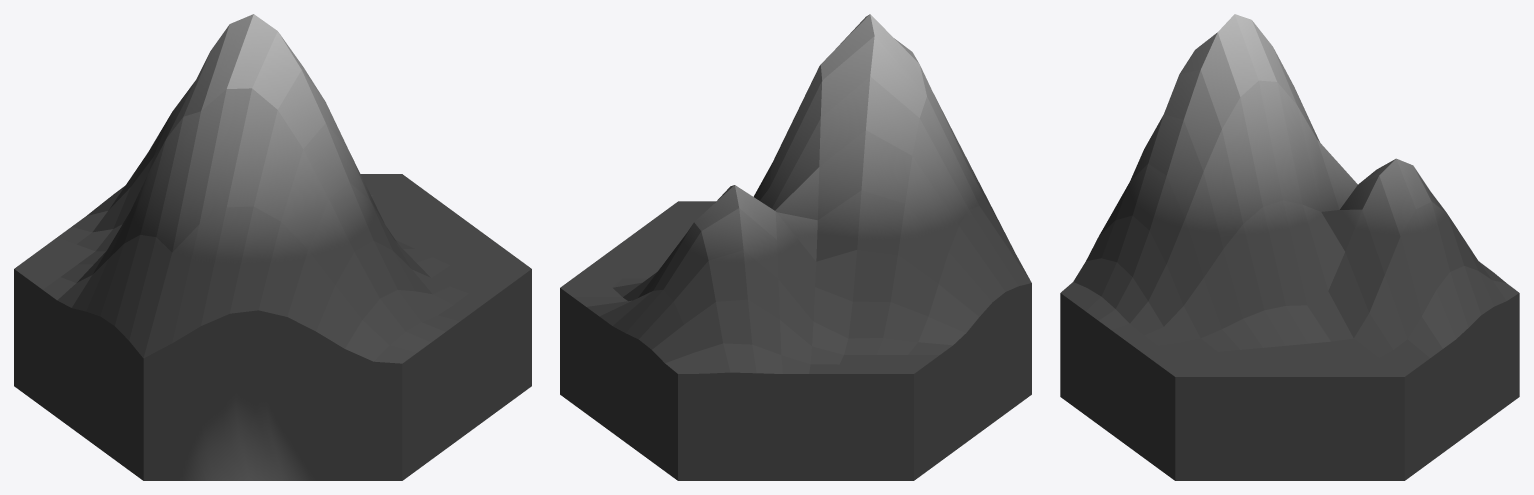
Rendered from HexCell_Mountain_1.glb.
3 renders of one model, left to right at view 1: azimuth 30°, elevation 25°; view 2: azimuth 150°, elevation 25°; view 3: azimuth 270°, elevation 25°, orthographic. The views are drawn at different scales.
Visible parts, largest first — view 1: HexCell_Mountain_1; view 2: HexCell_Mountain_1; view 3: HexCell_Mountain_1.
Part boxes in pixels (box(x1,y1,x2,y2)): HexCell_Mountain_1: box(14, 14, 531, 480); HexCell_Mountain_1: box(560, 14, 1031, 480); HexCell_Mountain_1: box(1060, 14, 1519, 480).
Bounding box in the file's own units: 1.73 × 1.74 × 2.
1 material, 1 textured.
